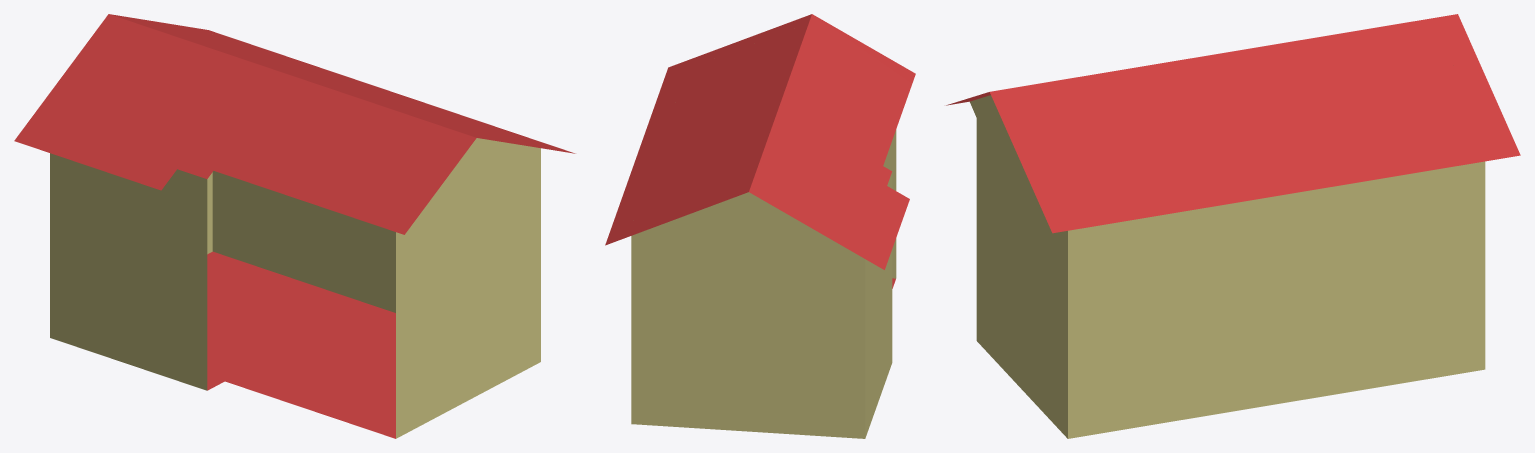
3 renders of one model, left to right at view 1: azimuth 30°, elevation 25°; view 2: azimuth 150°, elevation 25°; view 3: azimuth 270°, elevation 25°, orthographic. The views are drawn at different scales.
Bounding box in the file's own units: 18.11 × 21.09 × 11.89.
